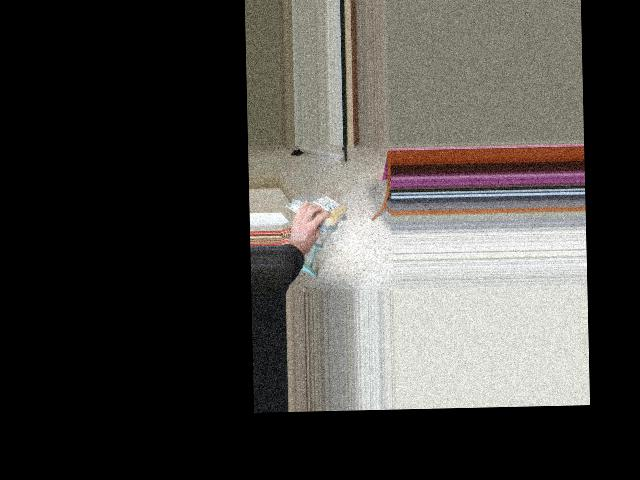cheese: (289, 194, 352, 224)
